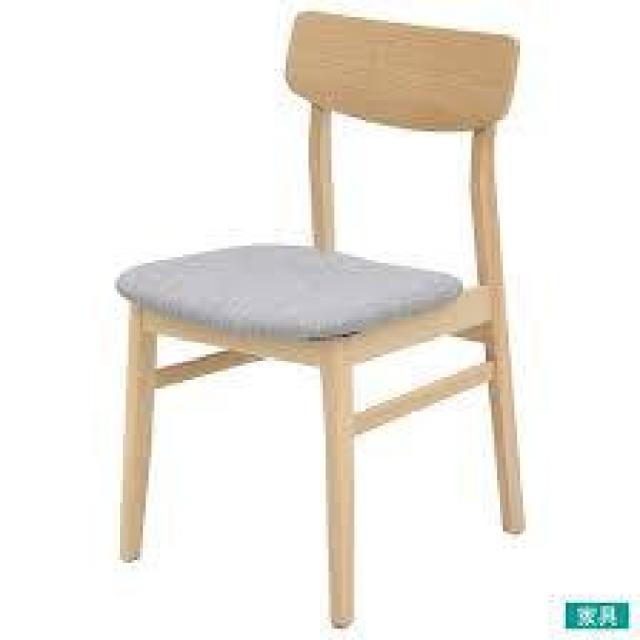chair: (77, 23, 580, 608)
